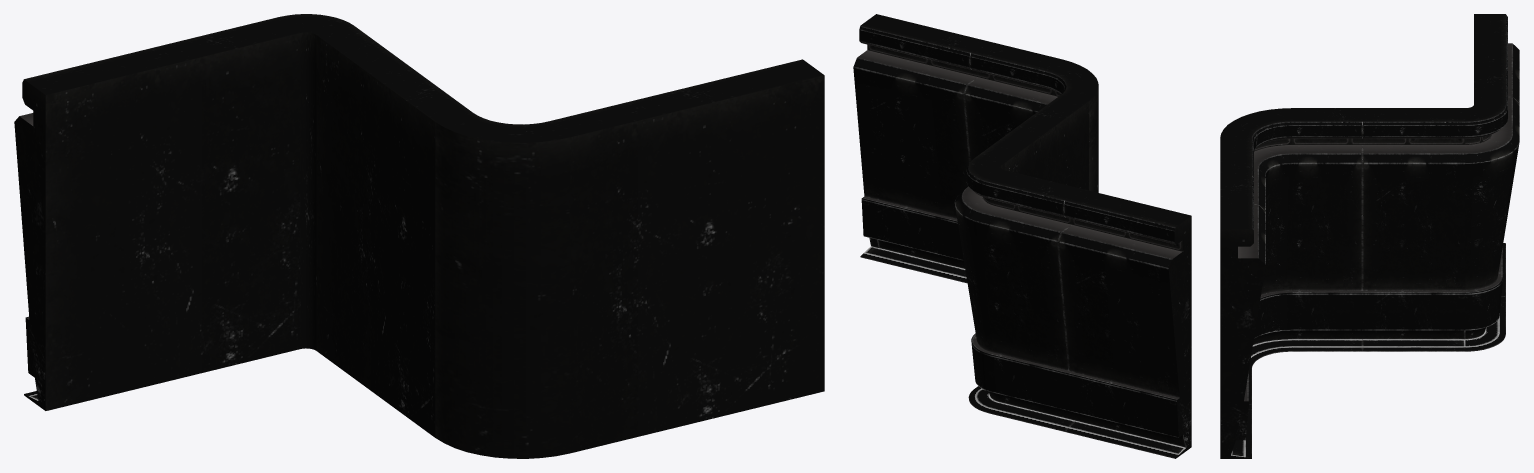
Rendered from SM_Wall_Corner_D.FBX.
3 renders of one model, left to right at view 1: azimuth 30°, elevation 25°; view 2: azimuth 150°, elevation 25°; view 3: azimuth 270°, elevation 25°, orthographic. The views are drawn at different scales.
Visible parts, largest first — view 1: SM_Wall_Corner_D; view 2: SM_Wall_Corner_D; view 3: SM_Wall_Corner_D.
Part boxes in pixels (left/top/right/bottom): SM_Wall_Corner_D: left=14, top=14, right=824, bottom=458; SM_Wall_Corner_D: left=853, top=14, right=1191, bottom=458; SM_Wall_Corner_D: left=1220, top=14, right=1519, bottom=458.
Bounding box in the file's own units: 801 × 400 × 472.
1 material, 1 textured.
